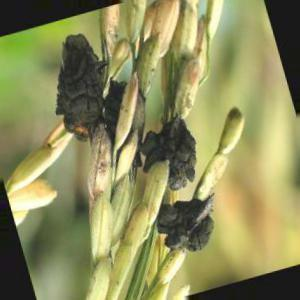Leaf_Scald: (60, 34, 100, 142), (144, 112, 196, 194), (160, 204, 214, 254), (98, 74, 128, 142)
